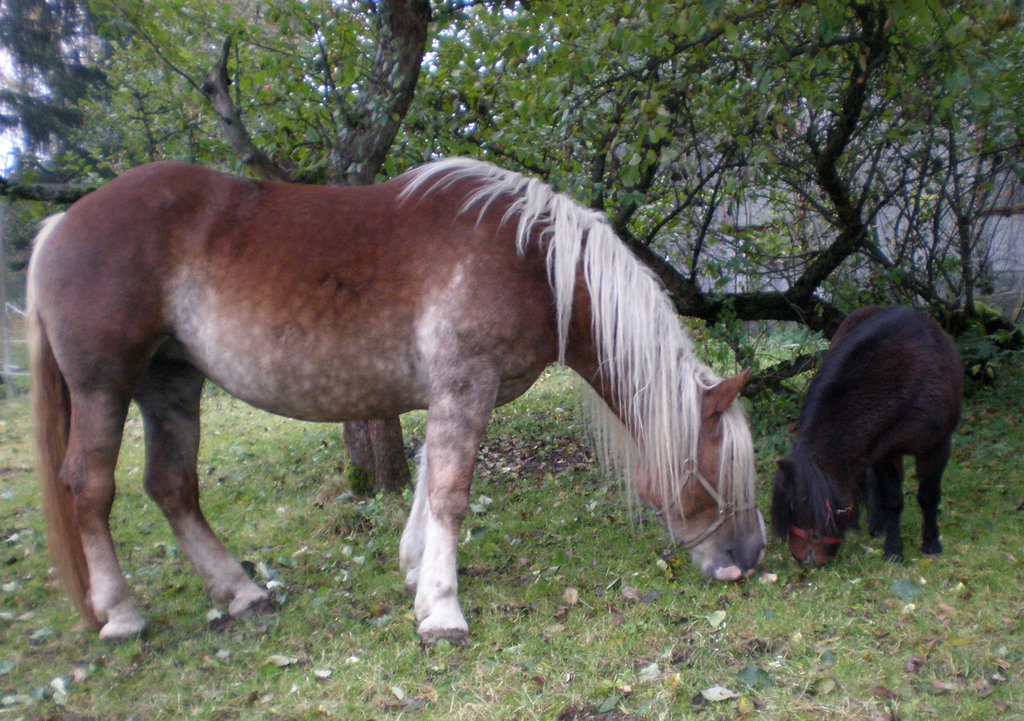horse: (30, 150, 772, 650), (771, 302, 965, 570)
